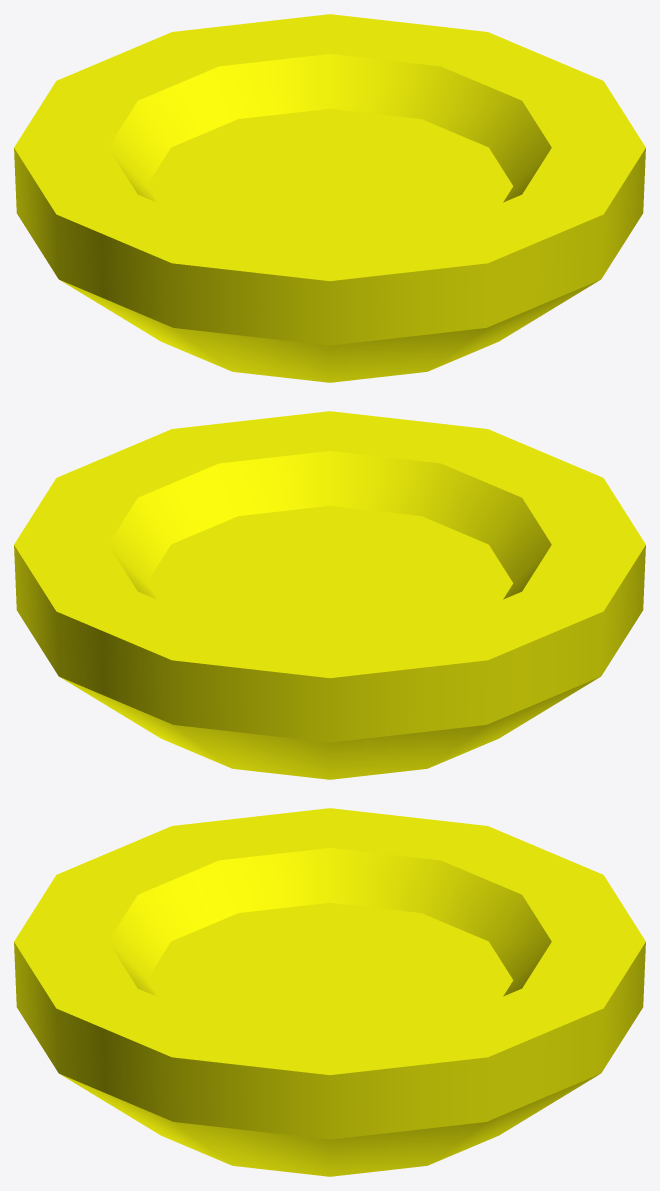
The model's file is kaykit-plate-small.glb.
The picture shows the model from 3 angles, top to bottom: view 1: azimuth 30°, elevation 25°; view 2: azimuth 150°, elevation 25°; view 3: azimuth 270°, elevation 25°; orthographic projection.
Visible parts, largest first — view 1: plate_small; view 2: plate_small; view 3: plate_small.
Boxes of the visible parts, left/top/right/bottom form: plate_small: left=14, top=14, right=645, bottom=382; plate_small: left=14, top=411, right=645, bottom=779; plate_small: left=14, top=808, right=645, bottom=1176.
Bounding box in the file's own units: 0.4853 × 0.1294 × 0.4853.
